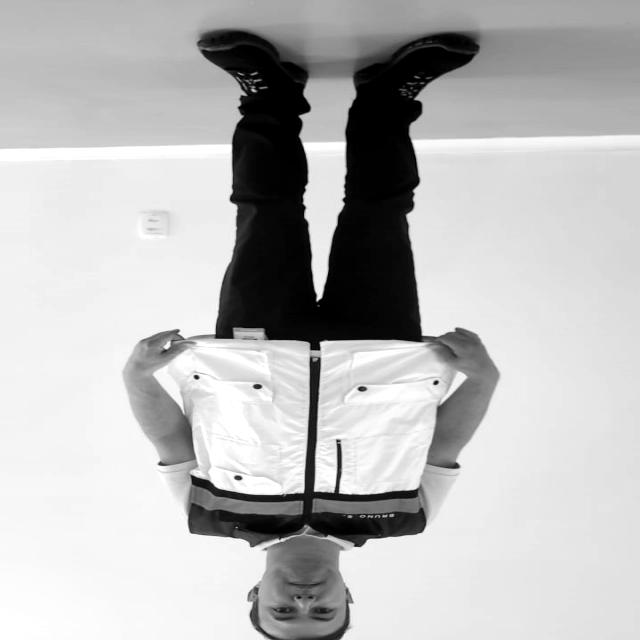Boots: (345, 27, 496, 101), (190, 28, 315, 99)
Vest: (190, 337, 427, 539)
